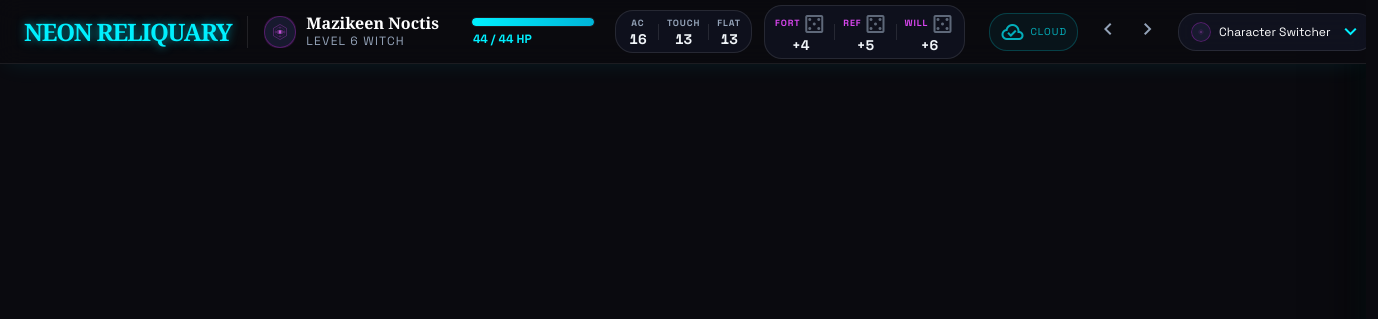
Test case: CharacterDropdown Component › switches character seamlessly within TopBar and updates HUD state
Expected: the heading "Mazikeen Noctis" is shown, [306,14,439,30]
# Open dropdown via trigger in TopBar
Click the button with test id "character-dropdown-trigger" at (1272, 32), box [1178,12,1366,50]
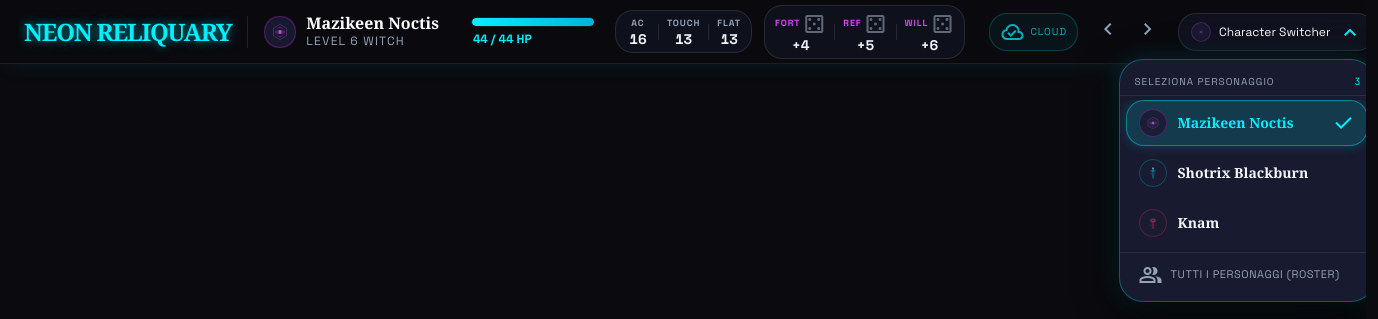
# Select Knam
Click the option with test id "character-dropdown-option-knam" at (1246, 222), box [1126,200,1366,246]
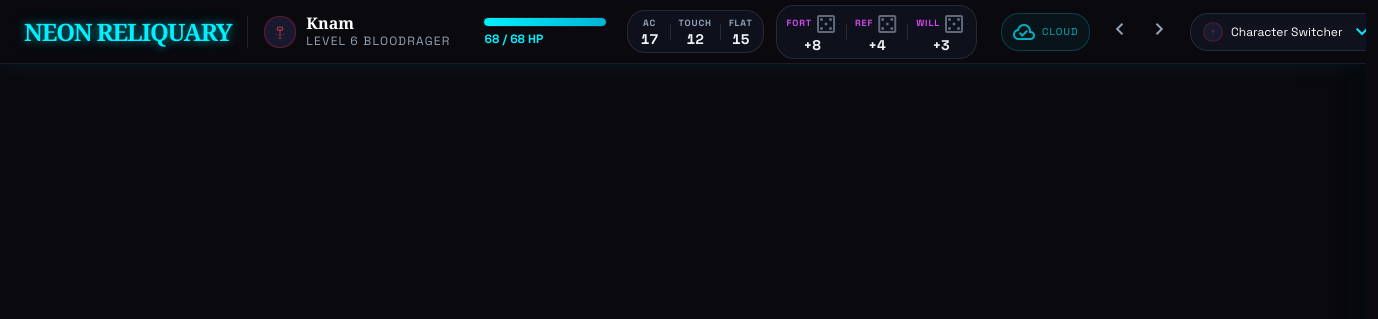
Expected: the heading "Knam" is shown, [306,12,354,34]
Expected: the text "Level 6 Bloodrager" is shown, [306,32,450,48]
